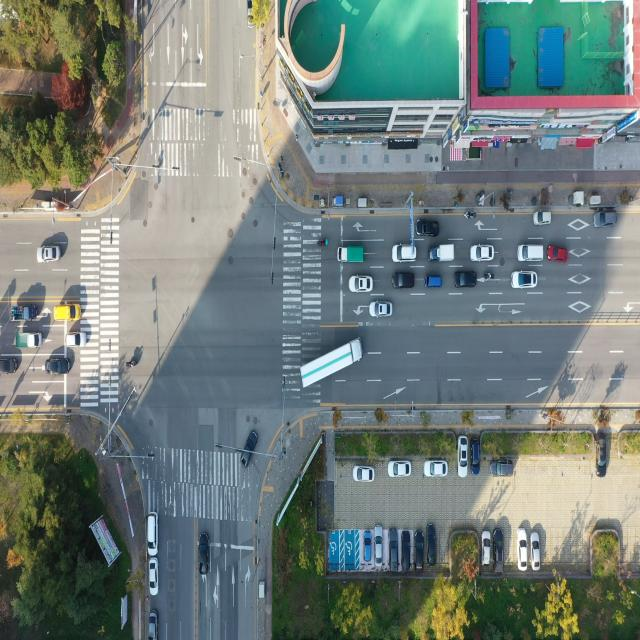car: (238, 427, 258, 467), (510, 268, 538, 292), (516, 242, 544, 266), (425, 521, 439, 568), (492, 526, 505, 576), (516, 525, 529, 574), (594, 430, 608, 475), (197, 531, 211, 574), (452, 267, 478, 290), (369, 296, 393, 320), (469, 242, 495, 263), (348, 273, 374, 294), (373, 523, 385, 568), (592, 209, 618, 229), (400, 527, 411, 573), (490, 456, 513, 478), (392, 270, 416, 291), (45, 356, 70, 376), (481, 528, 493, 569), (414, 527, 425, 571), (387, 459, 412, 478), (530, 528, 541, 571), (388, 526, 398, 573), (147, 515, 158, 557), (424, 459, 448, 478), (55, 304, 80, 322), (64, 331, 88, 349), (351, 464, 375, 482), (458, 437, 468, 479), (393, 244, 416, 262), (532, 209, 552, 228), (39, 245, 60, 263), (416, 220, 438, 237), (470, 439, 480, 474), (423, 272, 442, 290), (363, 528, 372, 566), (548, 246, 568, 263), (531, 532, 540, 569), (0, 357, 17, 375), (148, 558, 156, 594), (147, 612, 157, 640)
medium_truck: (298, 338, 366, 388)
small_truck: (10, 301, 38, 324), (427, 242, 456, 264), (338, 245, 366, 264), (18, 334, 42, 351)
